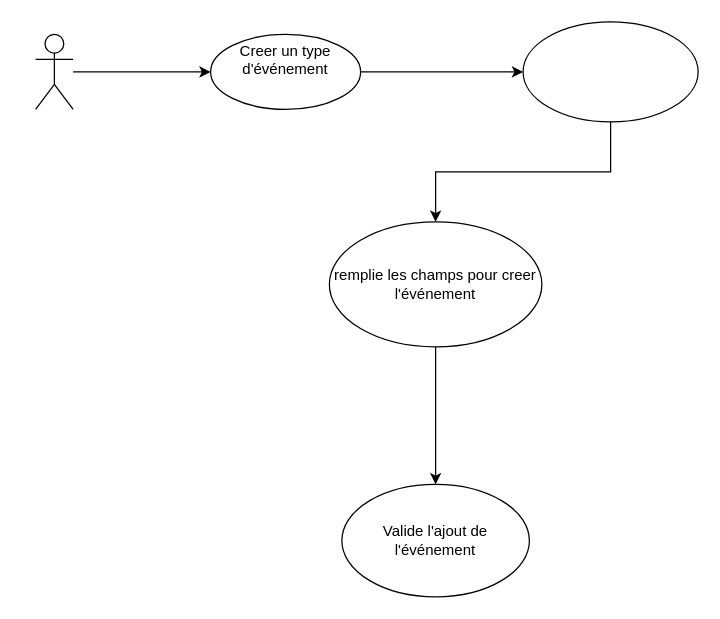
Some shapes in this 720 by 619 pixel diagram are drawn without their labels. Each missing label, with the centre of its shape:
"Séléctionne un type d'événement" goes at [610,71].
"Utilisateur" goes at [53,71].
